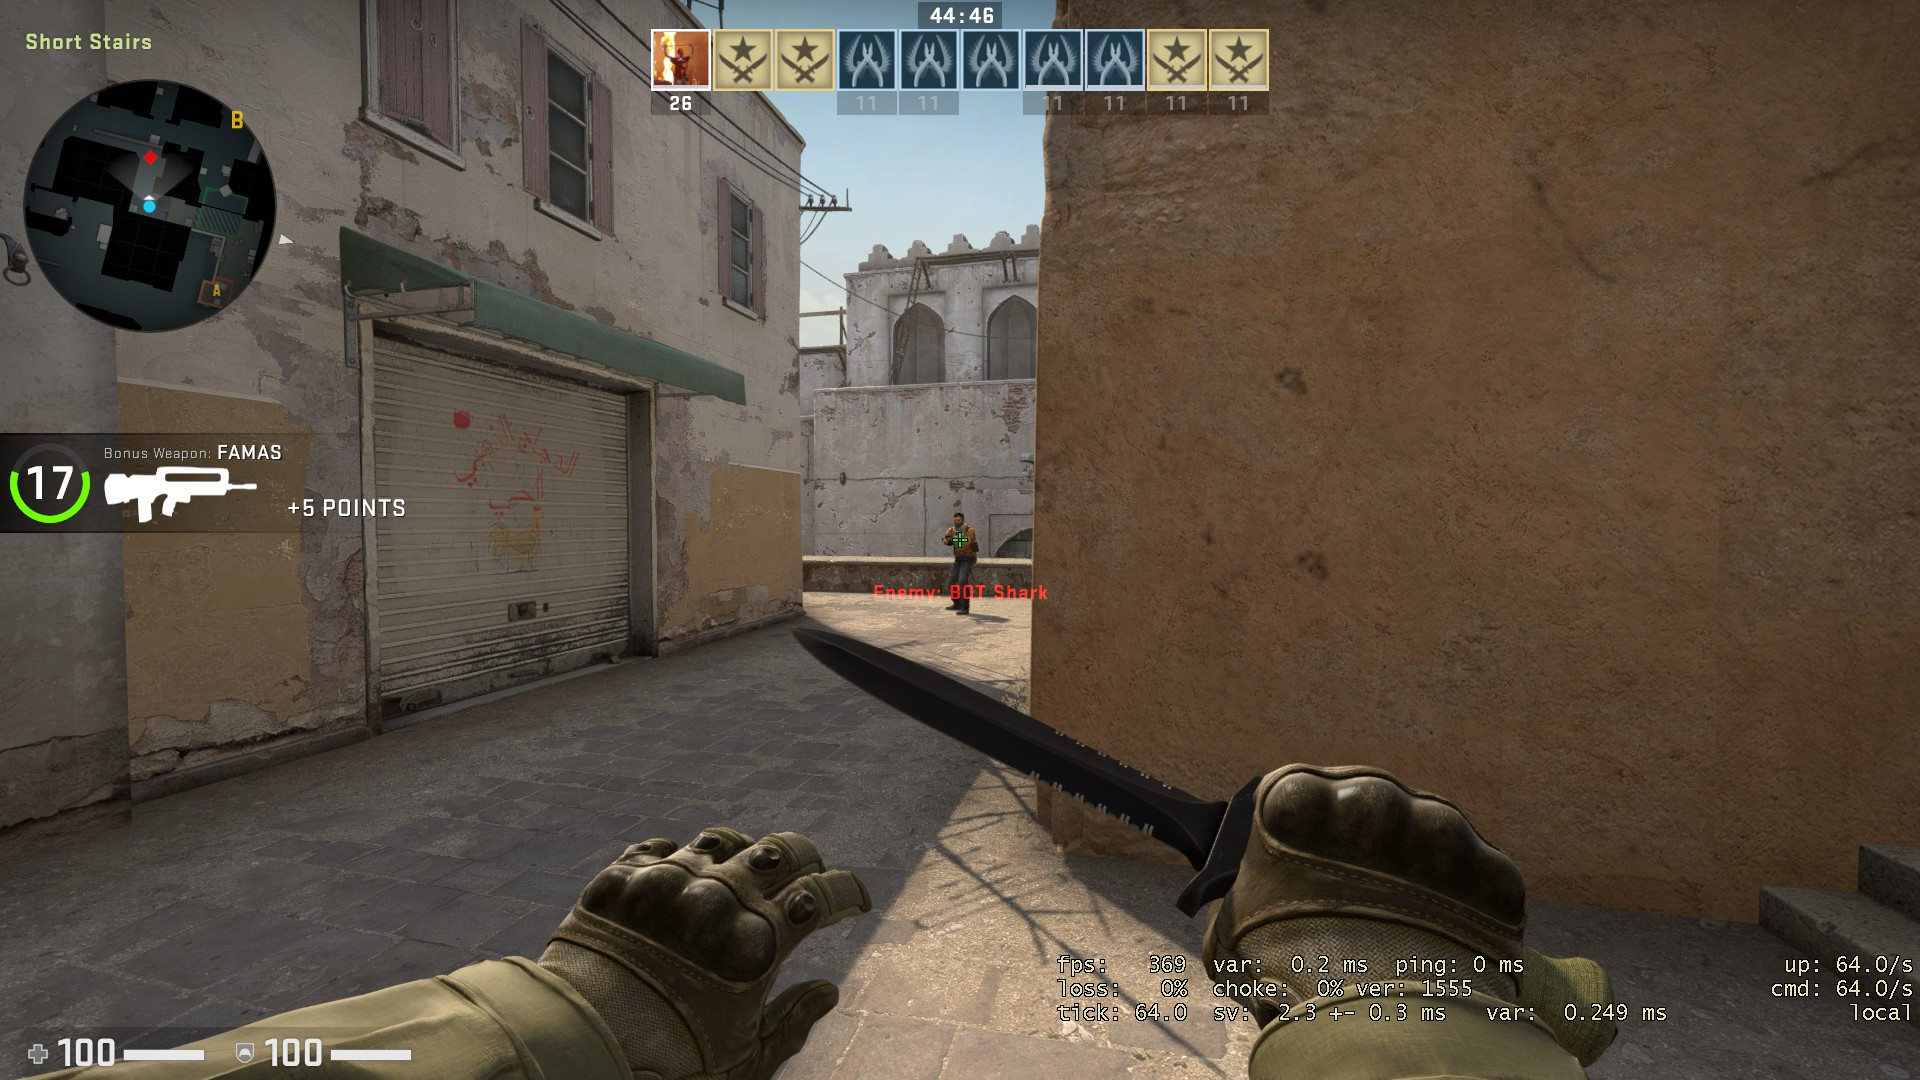player: (937, 507, 982, 617)
